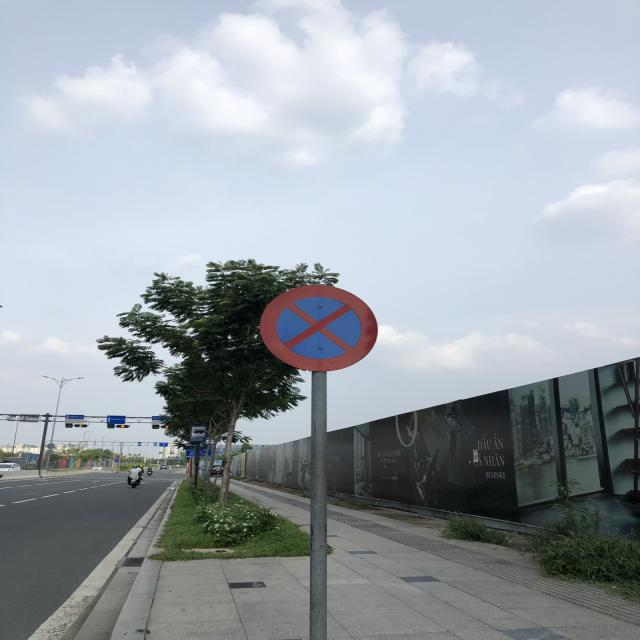Bien bao cam dung xe va do xe: (256, 279, 389, 375)
